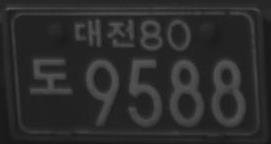0: (166, 17, 192, 52)
5: (126, 57, 163, 129)
8: (208, 57, 248, 129), (168, 57, 205, 128), (138, 18, 163, 51)
9: (84, 56, 121, 128)
대전_O: (74, 17, 136, 50)
도: (29, 56, 74, 96)
